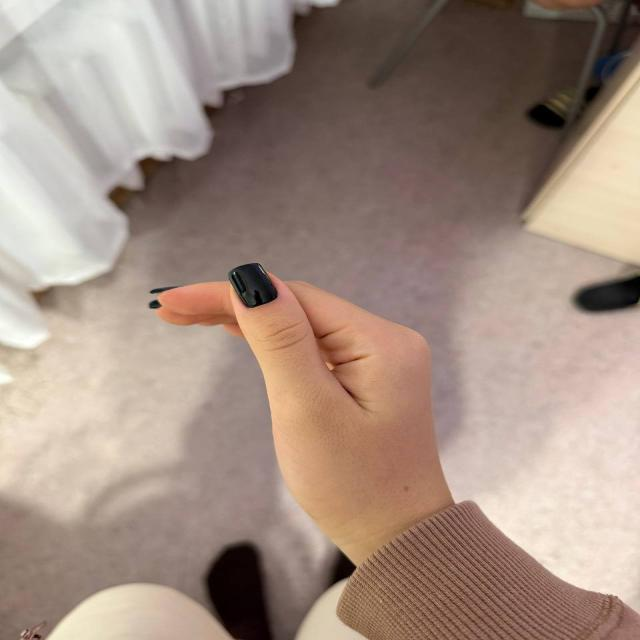f: (131, 250, 467, 517)
